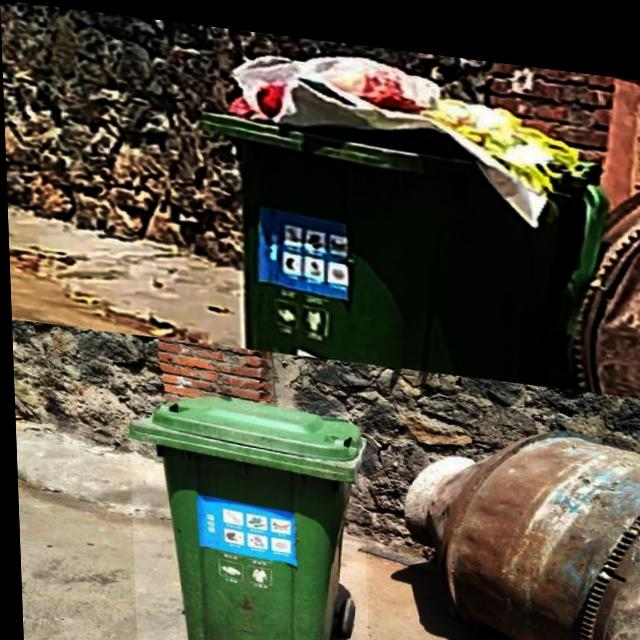garbage_bin: (125, 382, 366, 640)
overflow: (200, 33, 611, 379)
